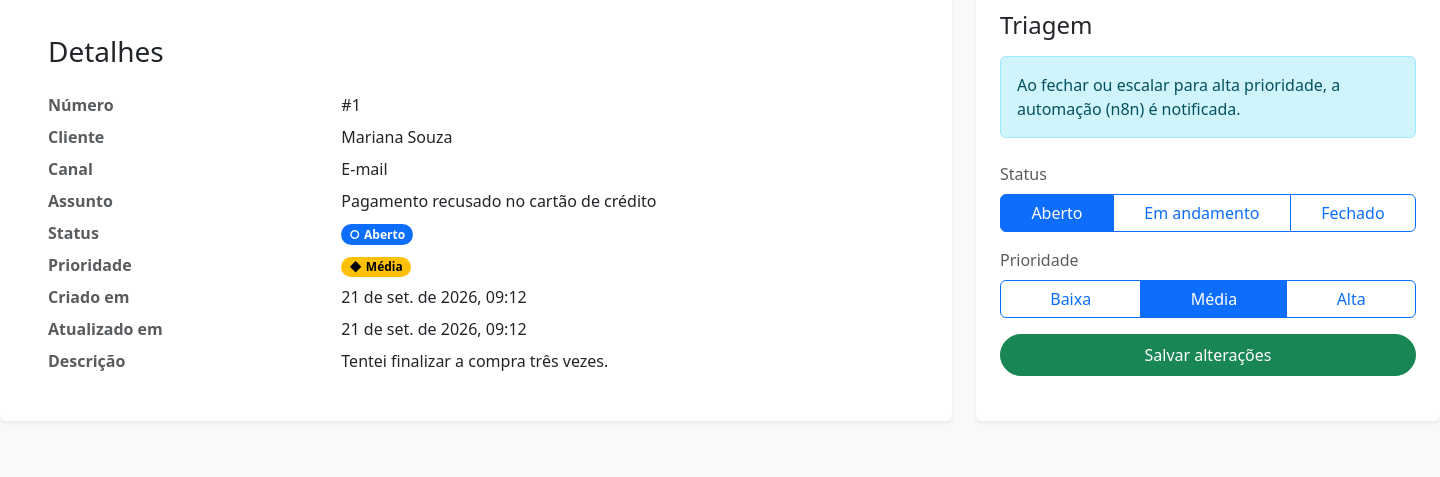
Test: TicketDetail › explains a read-only rejection from the API
Click the button "Fechado": (1353, 213) [1290, 194, 1416, 232]
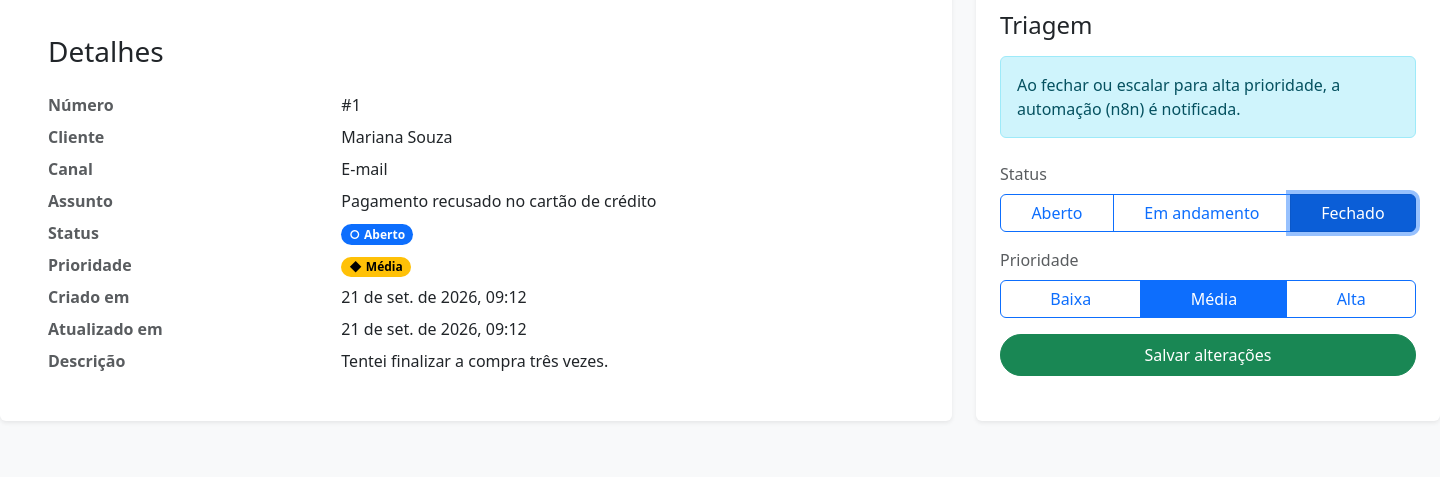
Click the button "Salvar alterações": (1208, 355) [1000, 334, 1416, 376]
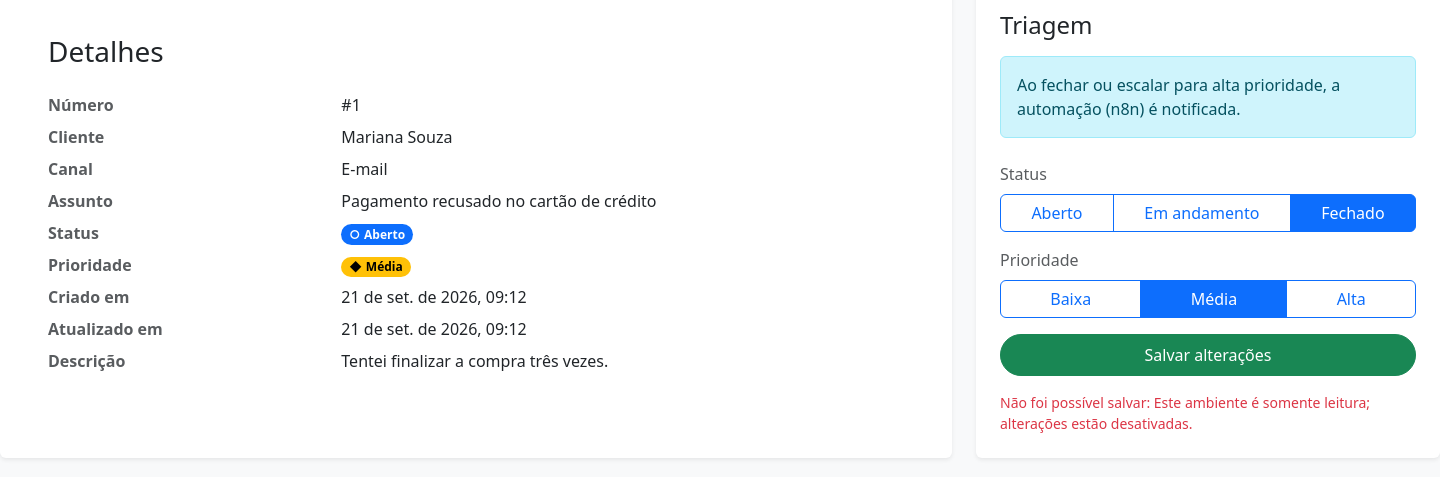
Check: the text "somente leitura" is shown, box [1000, 393, 1370, 433]
